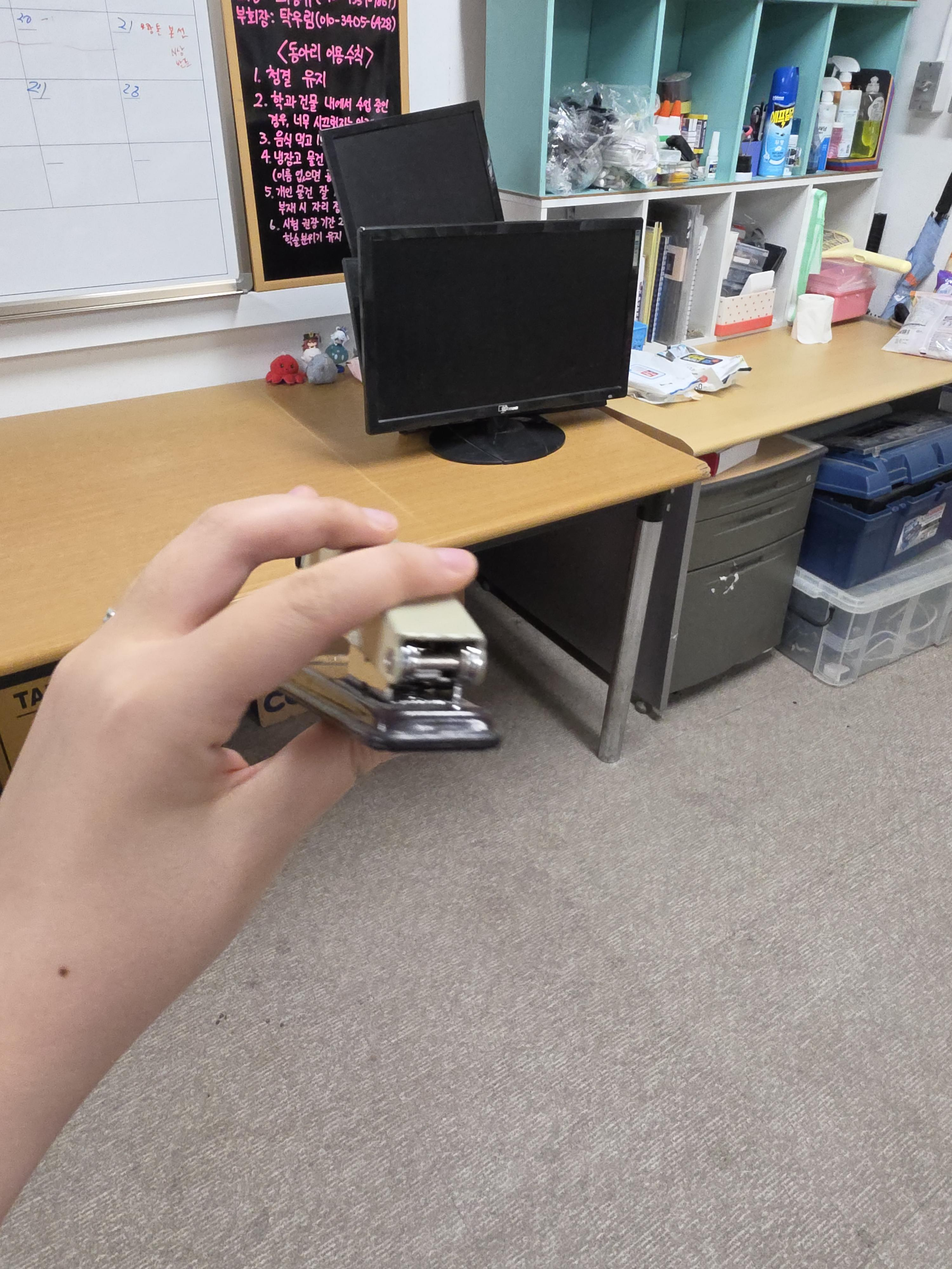stapler: (272, 543, 502, 753)
tissue: (794, 294, 836, 345)
